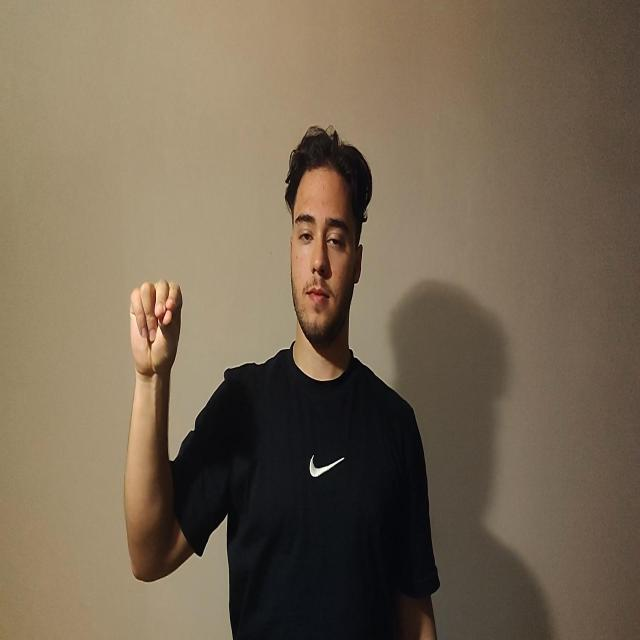no: (129, 278, 183, 377)
